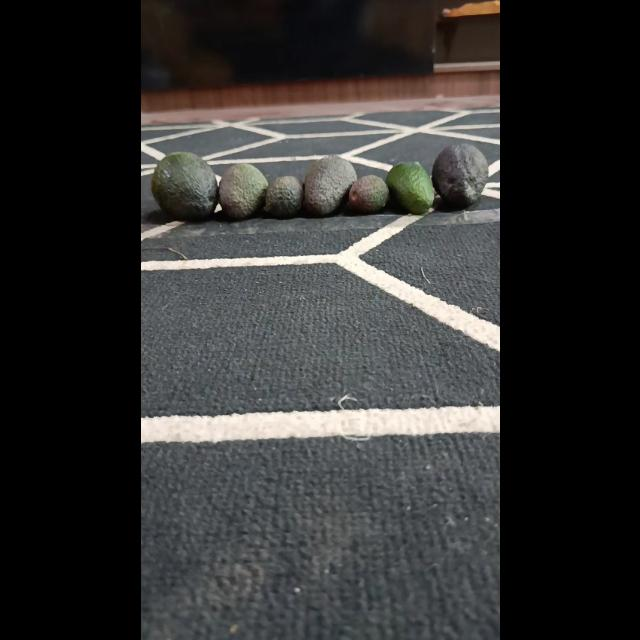Primera: (150, 152, 218, 220), (432, 143, 488, 210)
Segunda: (302, 154, 354, 216), (217, 162, 269, 220), (384, 161, 434, 215)
Tercera: (262, 176, 302, 218), (346, 174, 388, 214)
